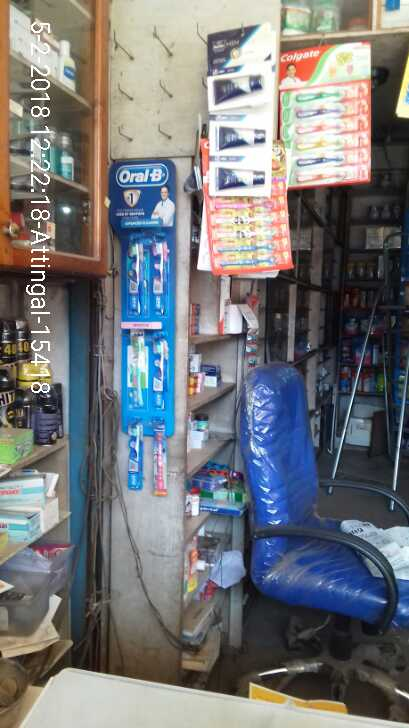oralb: (124, 327, 150, 411), (147, 230, 167, 320), (126, 230, 145, 316), (150, 328, 169, 413), (154, 423, 168, 496), (128, 425, 143, 489)
